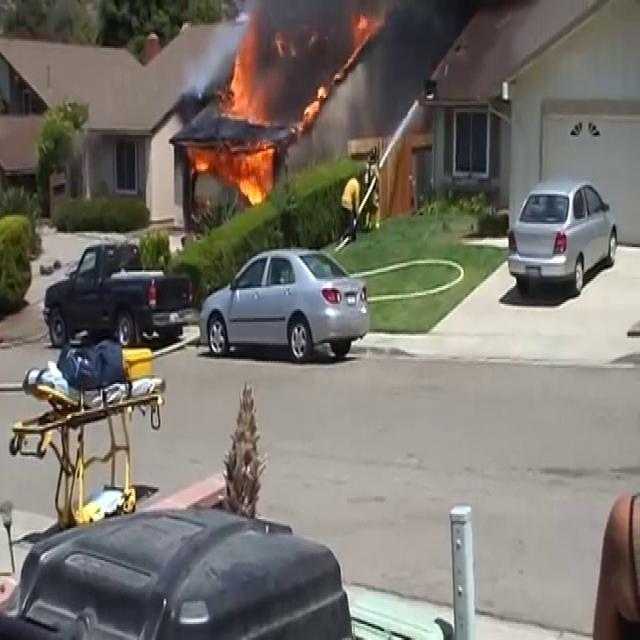Fire: (222, 37, 278, 207)
